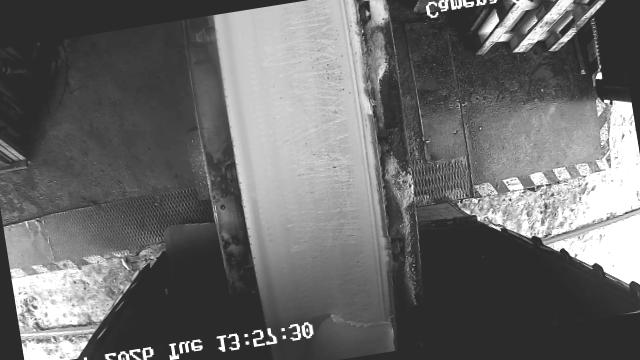bag: (310, 305, 398, 360)
